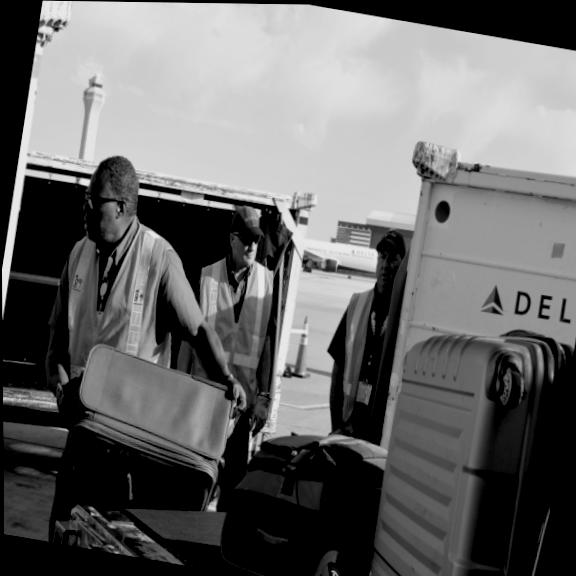safety_vest: (38, 206, 200, 416), (170, 240, 286, 414), (323, 276, 424, 449)
